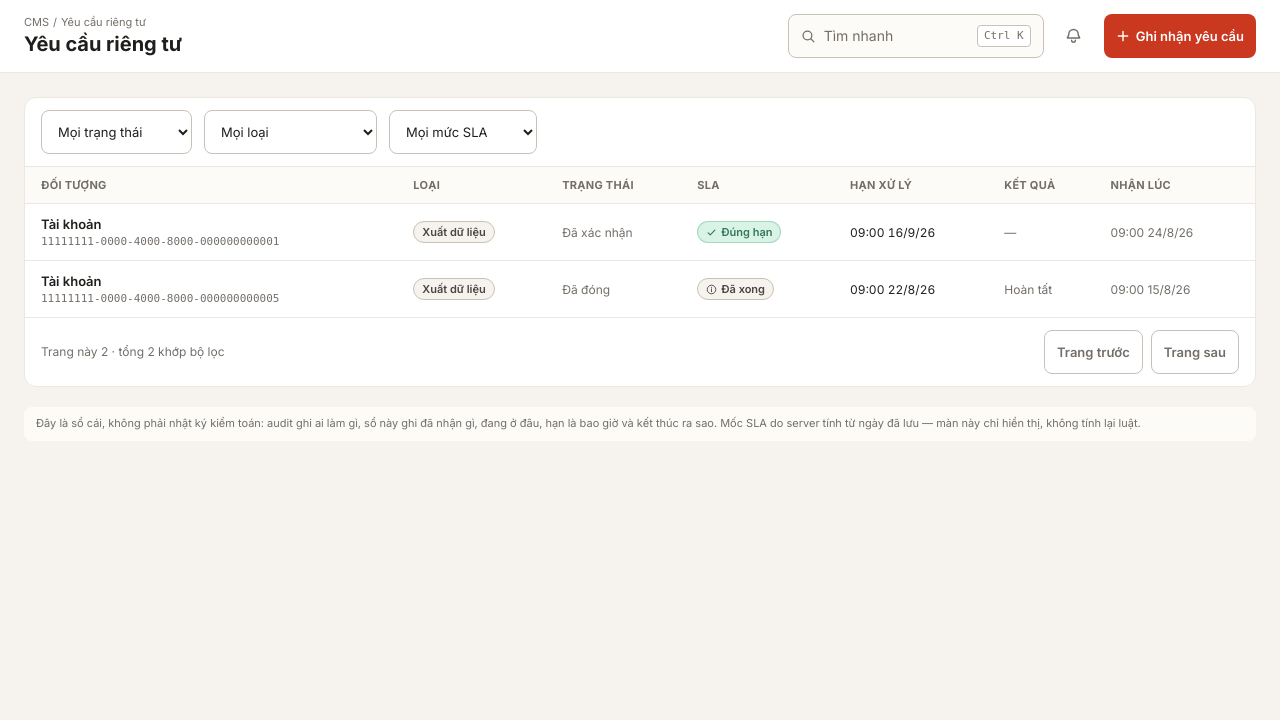
Test: secure export — privacy request execute (GoGo-BE#256) › executes an export to 202 metadata: facts shown, no file, no data
Step 1. Click the text "11111111-0000-4000-8000-000000000001" → (160, 242), box [41,235,279,248]
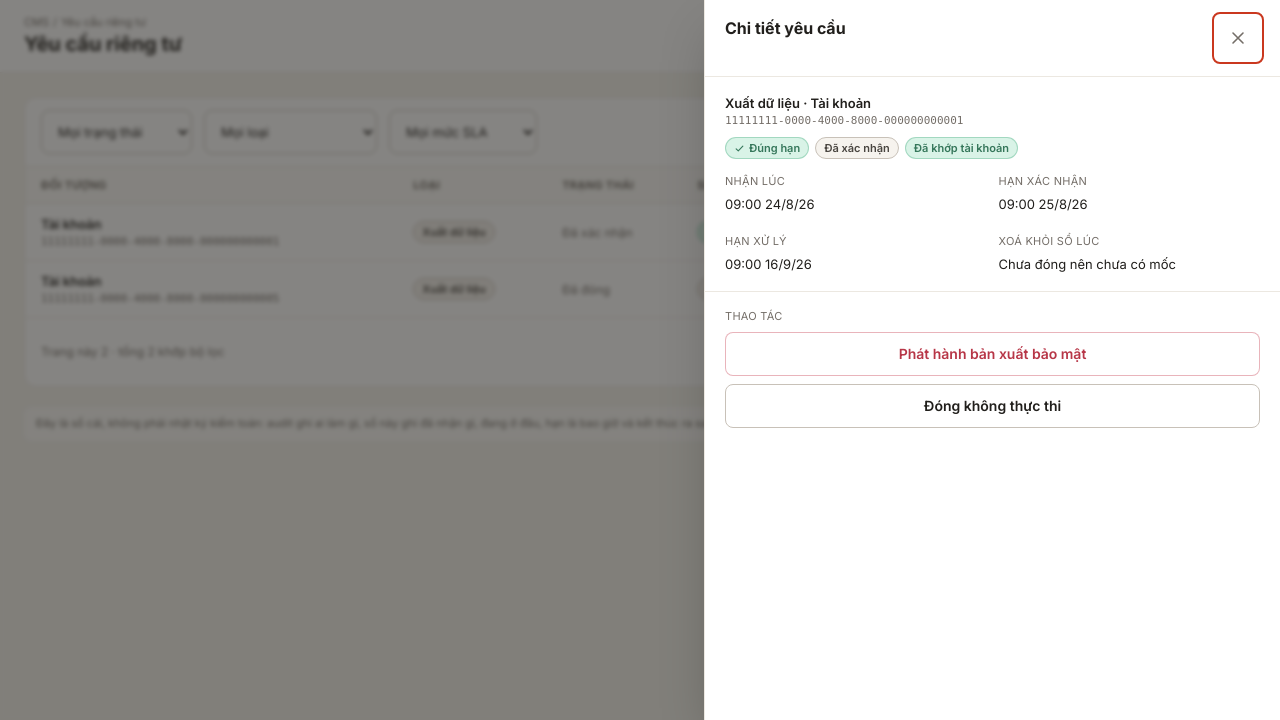
// Matched by verb so the pre-alpha.69 console is exercised too.
Step 2. Click the button "Phát hành bản xuất bảo mật" → (992, 354), box [725,332,1260,376]
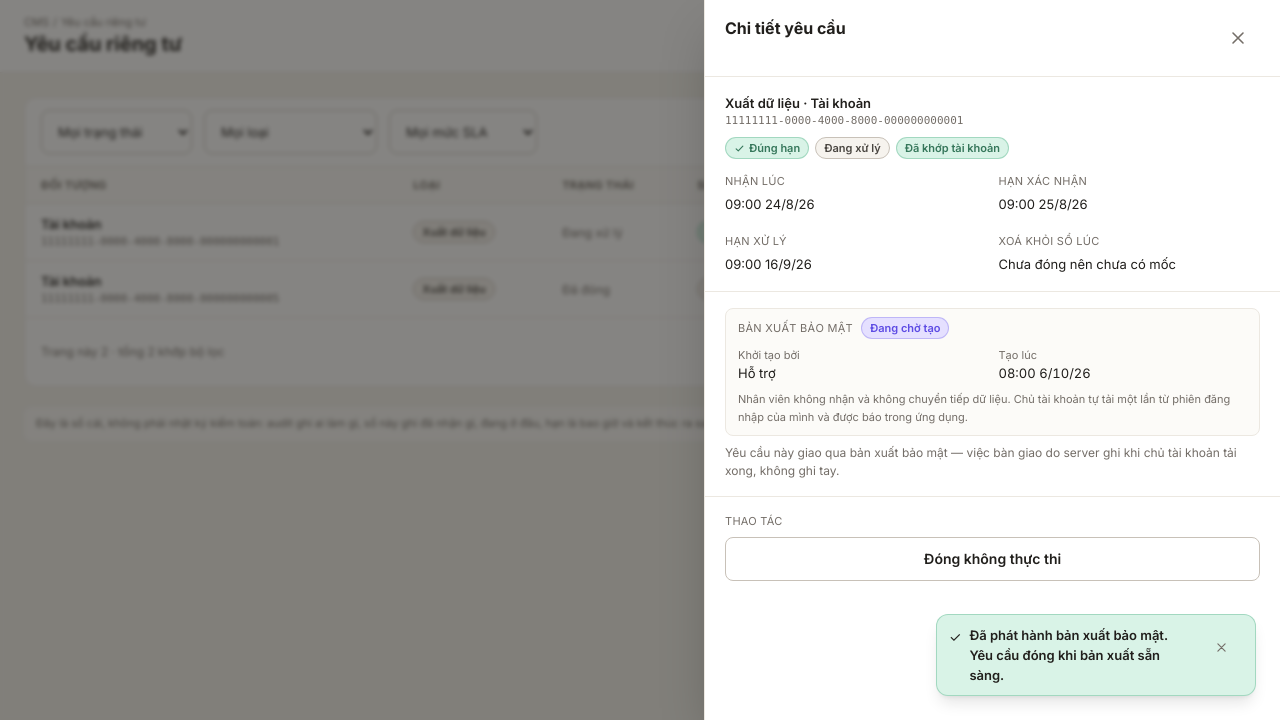
Result: the text "Đang chờ tạo" is shown at [861,317,950,339]
